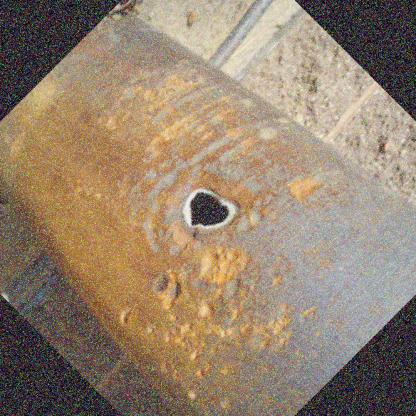burst: (184, 186, 253, 247)
